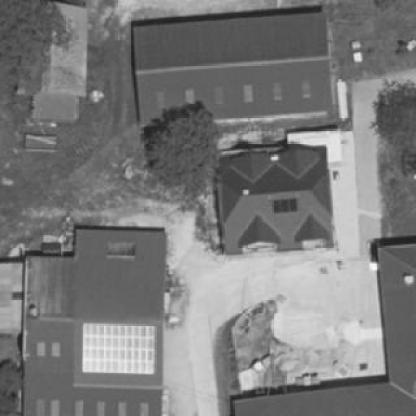solar-pv-panel: (82, 323, 155, 374), (272, 198, 297, 214)
